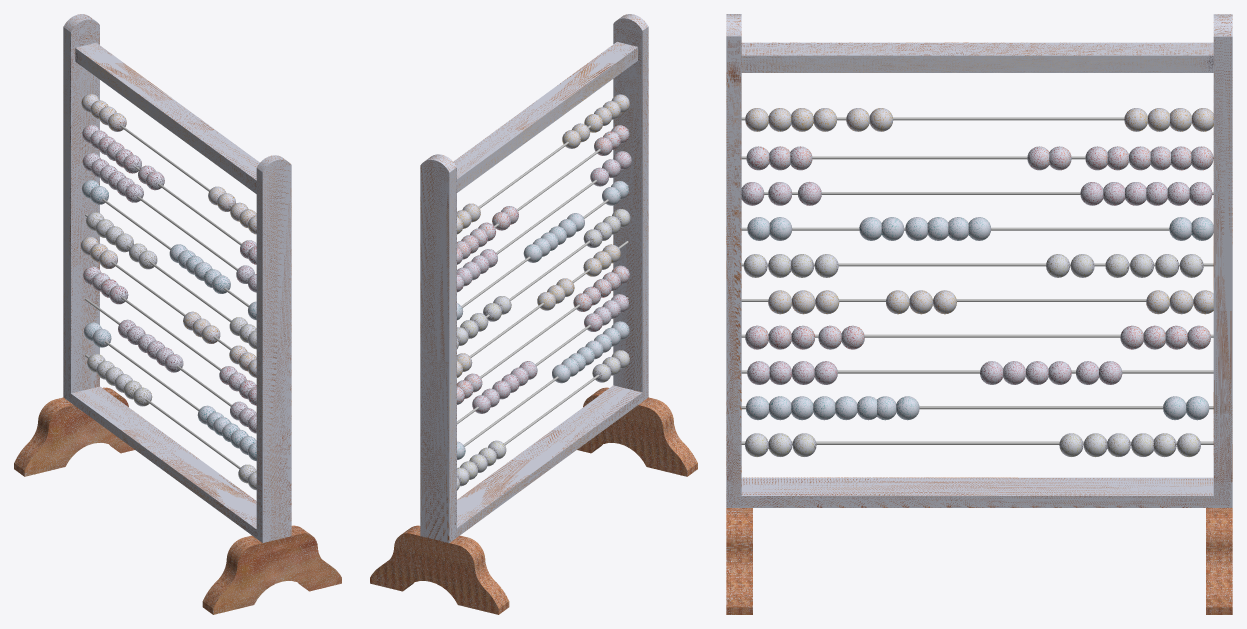
Rendered from abaco.fbx.
3 views of the same model, side by side, from view 1: azimuth 30°, elevation 25°; view 2: azimuth 150°, elevation 25°; view 3: azimuth 270°, elevation 25° (orthographic). The views are drawn at different scales.
Visible parts, largest first — view 1: group_52.001, group_0, group_52.007, group_85, group_52.005, group_52.003, group_52.002; view 2: group_52.001, group_85, group_52.007, group_0, group_52.005, group_52.003, group_52.002; view 3: group_52.001, group_52.008, group_52.005, group_0, group_85, group_95, group_100, group_91, group_98, group_97, group_48, group_92 (+3 smaller).
Part boxes in pixels (x1,y1,x2,y2): group_52.001: [63, 14, 291, 542]; group_0: [202, 525, 341, 614]; group_52.007: [63, 27, 256, 538]; group_85: [14, 387, 134, 476]; group_52.005: [76, 43, 259, 180]; group_52.003: [75, 48, 256, 193]; group_52.002: [256, 168, 262, 542]; group_52.001: [420, 14, 648, 542]; group_85: [370, 525, 509, 614]; group_52.007: [449, 167, 642, 542]; group_0: [577, 387, 697, 476]; group_52.005: [453, 42, 637, 178]; group_52.003: [457, 47, 637, 192]; group_52.002: [642, 26, 648, 401]; group_52.001: [726, 14, 1232, 507]; group_52.008: [741, 55, 1213, 72]; group_52.005: [741, 42, 1213, 55]; group_0: [726, 508, 752, 614]; group_85: [1206, 508, 1232, 614]; group_95: [741, 334, 1213, 337]; group_100: [741, 441, 1213, 444]; group_91: [741, 227, 1169, 230]; group_98: [741, 406, 1213, 409]; group_97: [741, 370, 1213, 373]; group_48: [741, 117, 1124, 120]; group_92: [741, 263, 1213, 266].
Size of the model in its own units: 22 by 71.8 by 59.
Materials: 11 (9 with a texture image).
